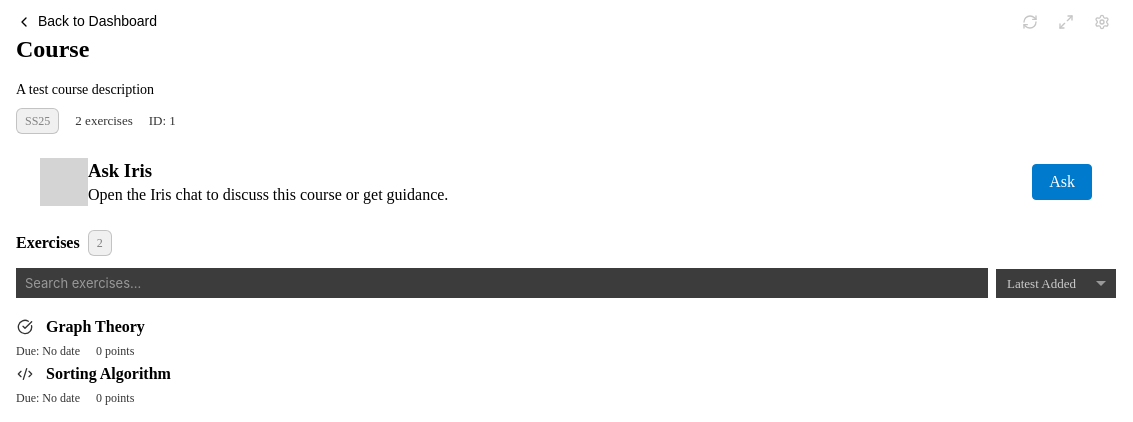
it: CourseDetailView › exercise search filters results
Expected: the text "Sorting Algorithm" is shown, [46,365,171,382]
Step 1. Type "sorting" into the search field with placeholder "Search exercises..." → x=502, y=283, box [16,268,988,298]
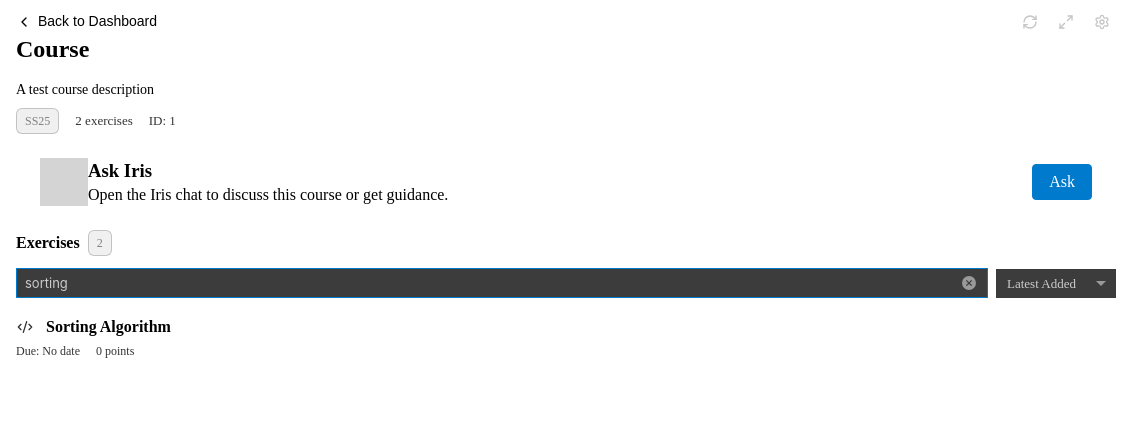
Expected: the text "Sorting Algorithm" is shown, [46,318,171,335]
Expected: the button "Graph Theory" is gone
